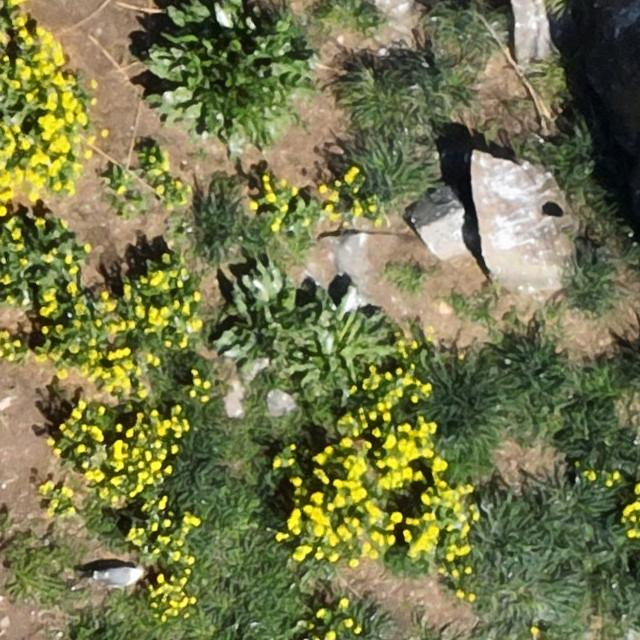umineko: (94, 563, 146, 586)
